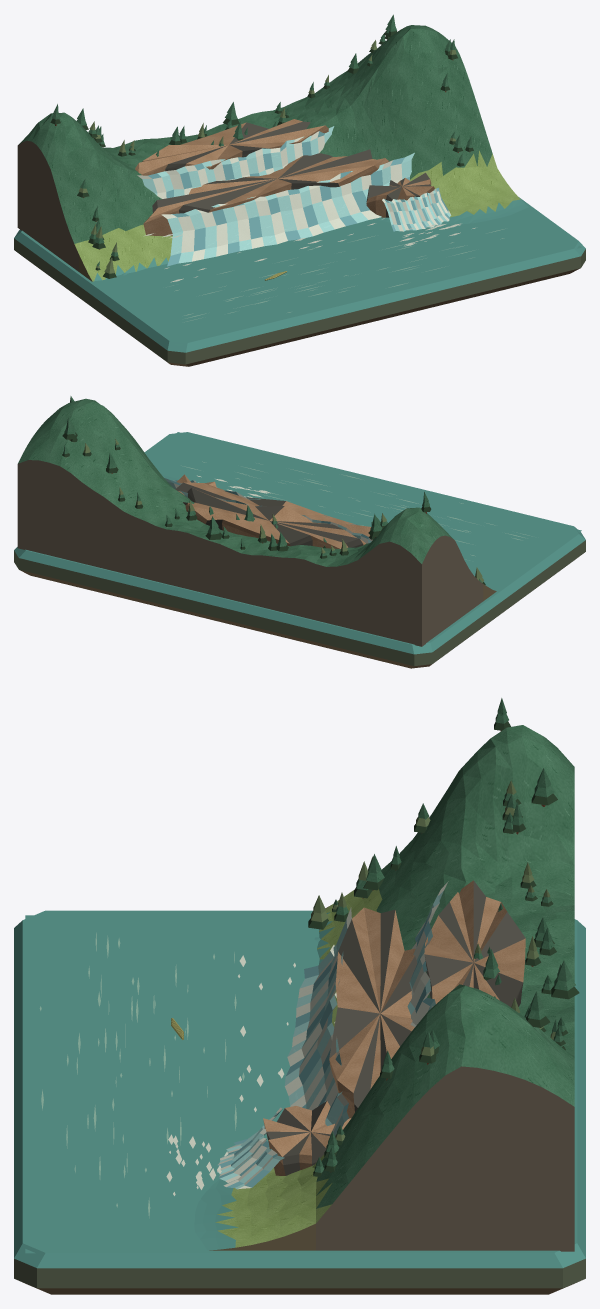
The model's file is detian.glb.
The picture shows the model from 3 angles, top to bottom: view 1: azimuth 30°, elevation 25°; view 2: azimuth 150°, elevation 25°; view 3: azimuth 270°, elevation 25°; orthographic projection. The views are drawn at different scales.
Parts seen in each view (by area): view 1: 德天跨国瀑布; view 2: 德天跨国瀑布; view 3: 德天跨国瀑布.
Boxes of the visible parts, x1=… form: 德天跨国瀑布: x1=14, y1=14, x2=585, y2=366; 德天跨国瀑布: x1=14, y1=396, x2=585, y2=668; 德天跨国瀑布: x1=14, y1=698, x2=585, y2=1294.
Bounding box in the file's own units: 6.15 × 2.26 × 4.25.
17 materials, 6 textured.
